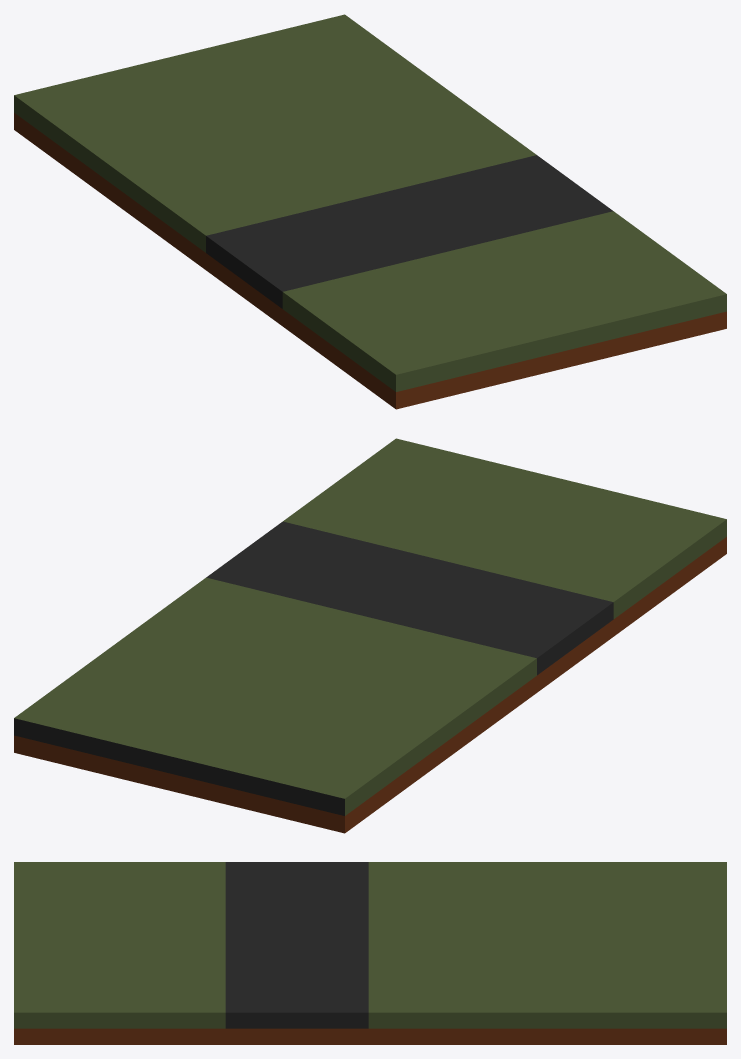
The model's file is LuckyPlat.fbx.
3 renders of one model, top to bottom at view 1: azimuth 30°, elevation 25°; view 2: azimuth 150°, elevation 25°; view 3: azimuth 270°, elevation 25°, orthographic. The views are drawn at different scales.
Visible parts, largest first — view 1: Cube.002; view 2: Cube.002; view 3: Cube.002.
Boxes of the visible parts, left/top/right/bottom form: Cube.002: left=14, top=14, right=726, bottom=409; Cube.002: left=14, top=438, right=726, bottom=833; Cube.002: left=14, top=862, right=726, bottom=1044.
Size of the model in its own units: 1988 by 199 by 3976.
